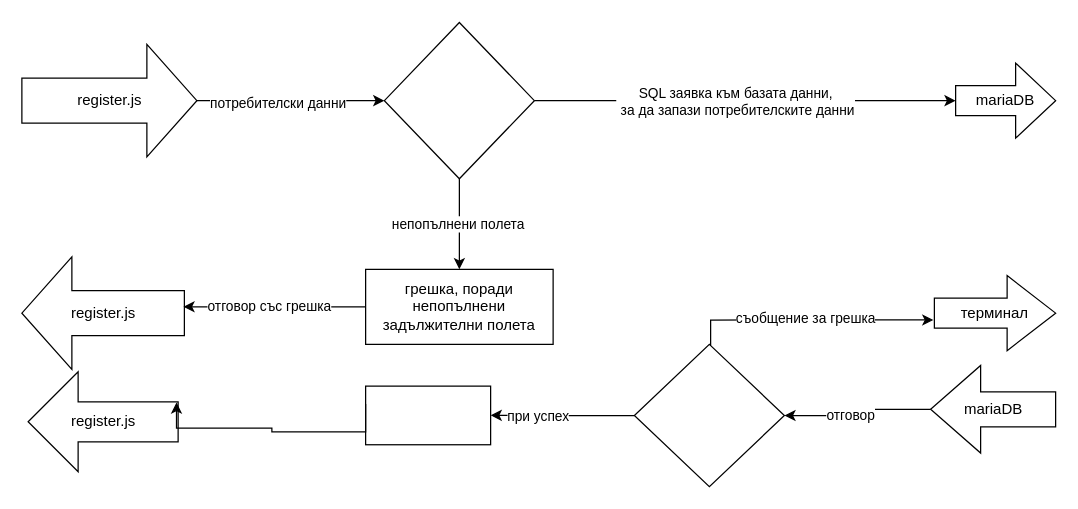
The diagram is 1078 pixels wide and 509 high, and some of its shapes have lost their labels. Each missing label, with the centre of its shape:
проверка за празни полета: point (458, 100)
Проверява се вида на отговора: point (708, 415)
съобщение за успех: point (427, 415)
